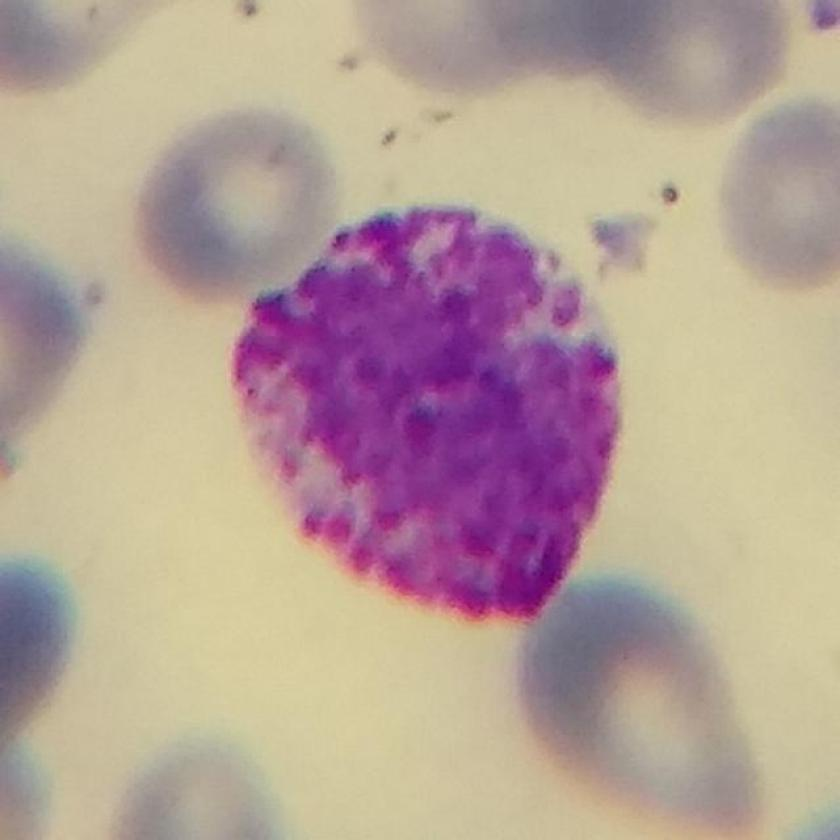basophil: (223, 198, 631, 627)
